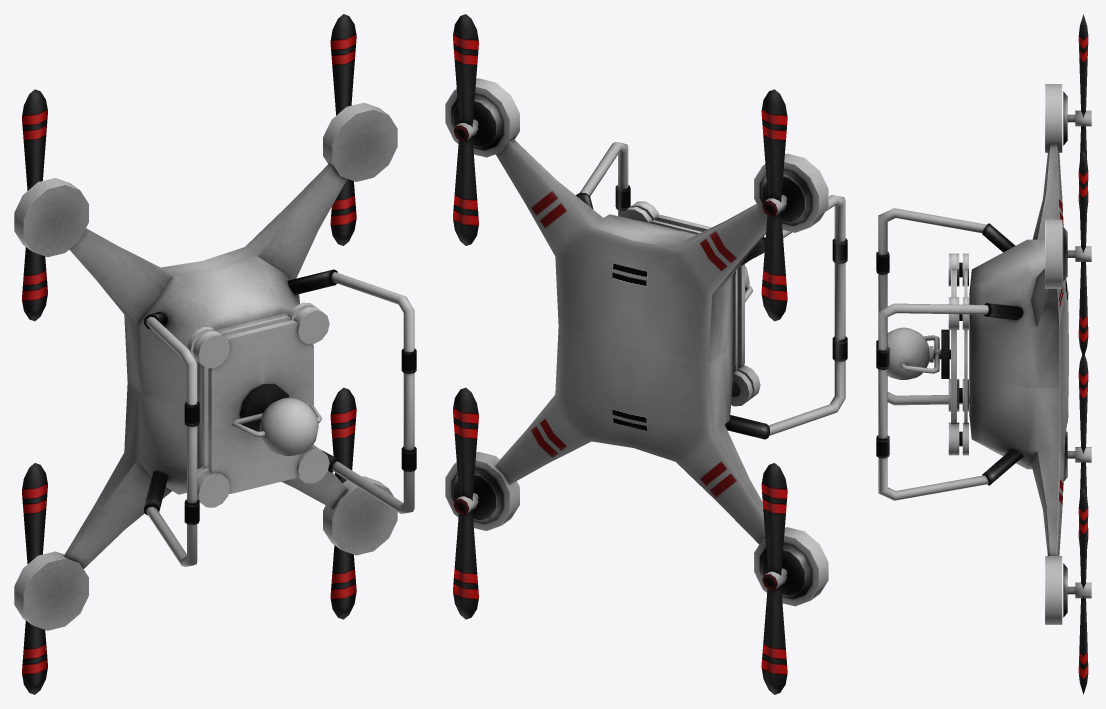
Rendered from drone.FBX.
3 renders of one model, left to right at view 1: azimuth 30°, elevation 25°; view 2: azimuth 150°, elevation 25°; view 3: azimuth 270°, elevation 25°, orthographic. The views are drawn at different scales.
Visible parts, largest first — view 1: Box036; view 2: Box036; view 3: Box036.
Part boxes in pixels (left/top/right/bottom): Box036: left=14, top=14, right=416, bottom=694; Box036: left=445, top=14, right=847, bottom=694; Box036: left=876, top=14, right=1091, bottom=694.
Size of the model in its own units: 769 by 1190 by 426.
